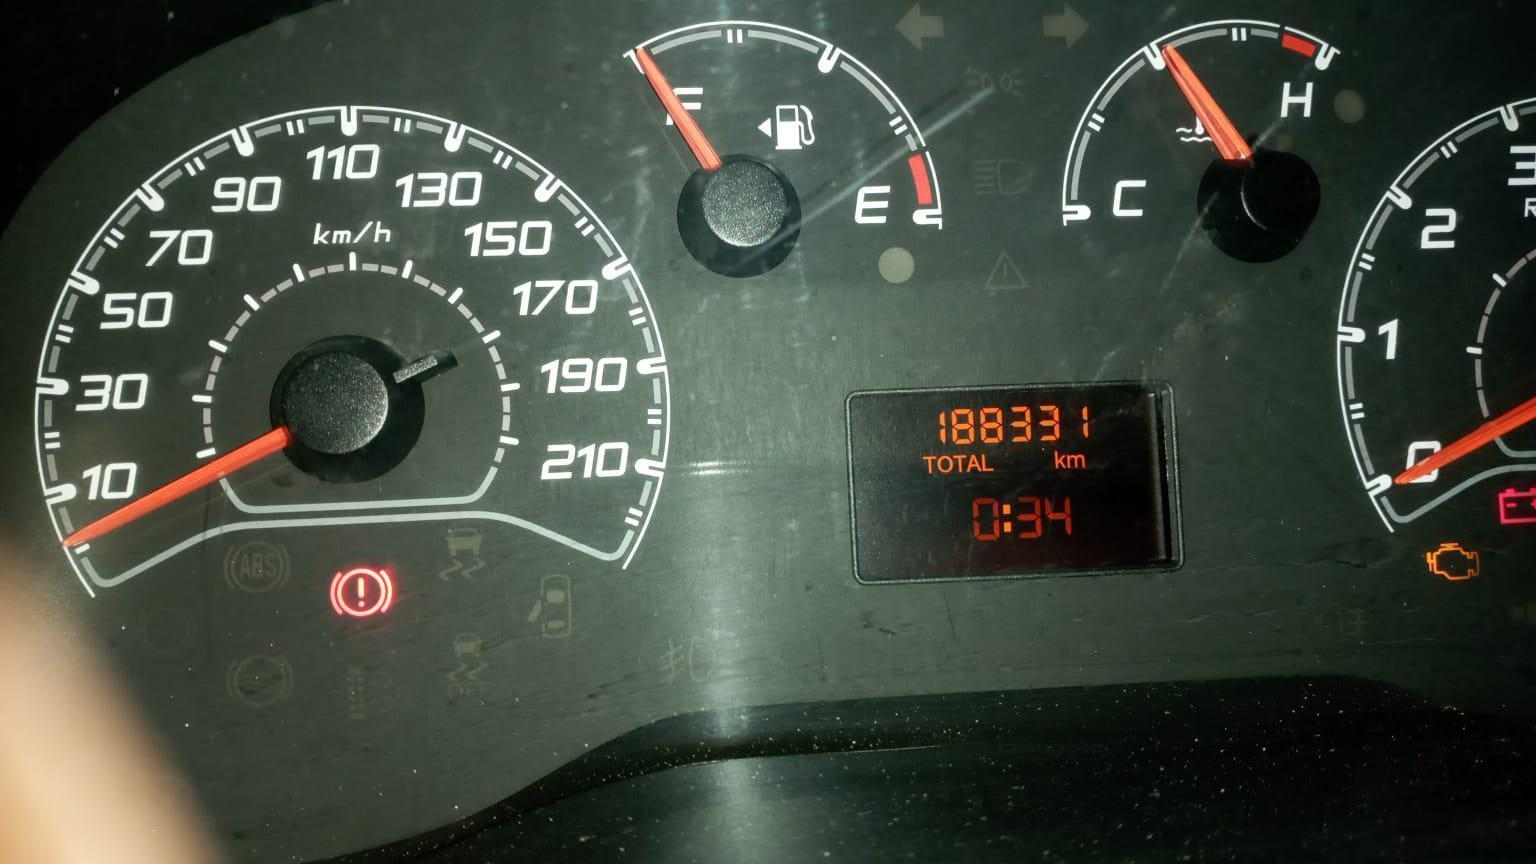0: (971, 497, 1000, 541)
1: (937, 410, 947, 445), (1080, 405, 1089, 438)
3: (1014, 495, 1042, 540), (1037, 404, 1061, 441), (1009, 405, 1032, 442)
4: (1044, 495, 1072, 536)
8: (979, 406, 1004, 443), (951, 407, 975, 445)
X: (1065, 453, 1086, 469), (936, 454, 953, 473), (1001, 503, 1012, 533), (921, 455, 937, 474), (952, 454, 966, 473), (980, 452, 994, 472), (966, 454, 981, 472), (1053, 450, 1065, 469)
odometer: (839, 375, 1188, 590)
